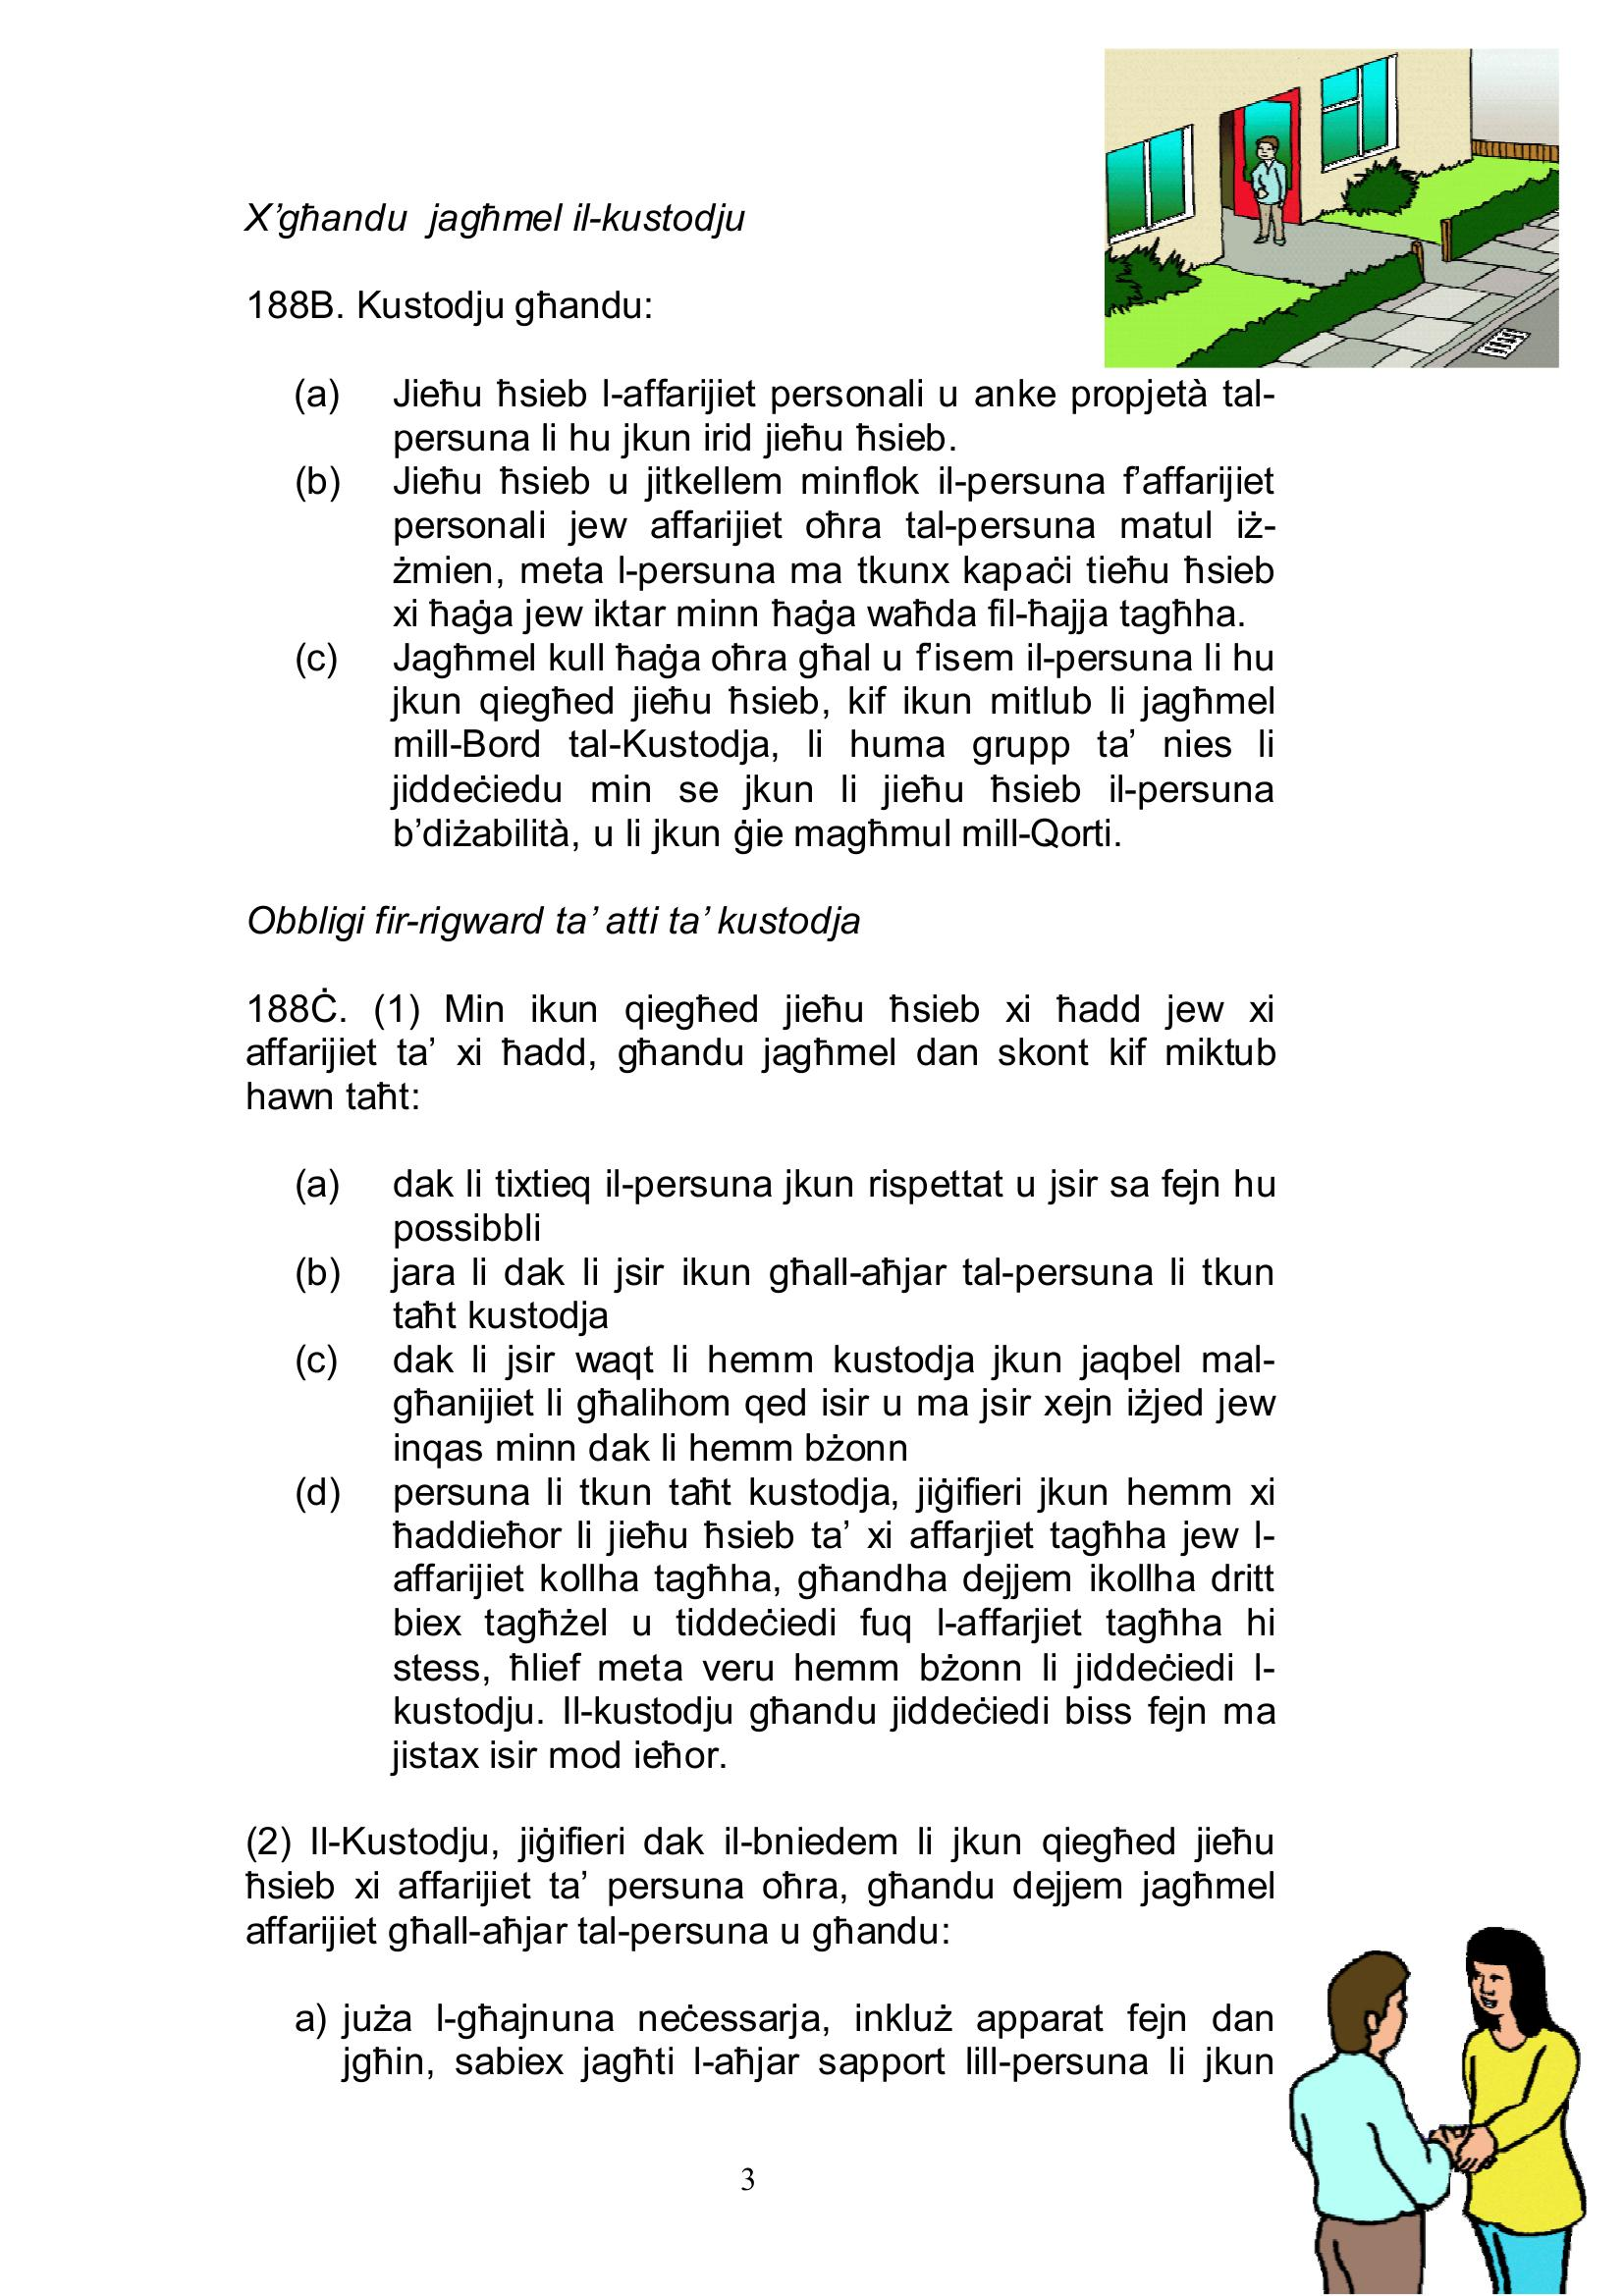text: (223, 179, 1285, 2089)
whiteout: (1086, 35, 1575, 374)
